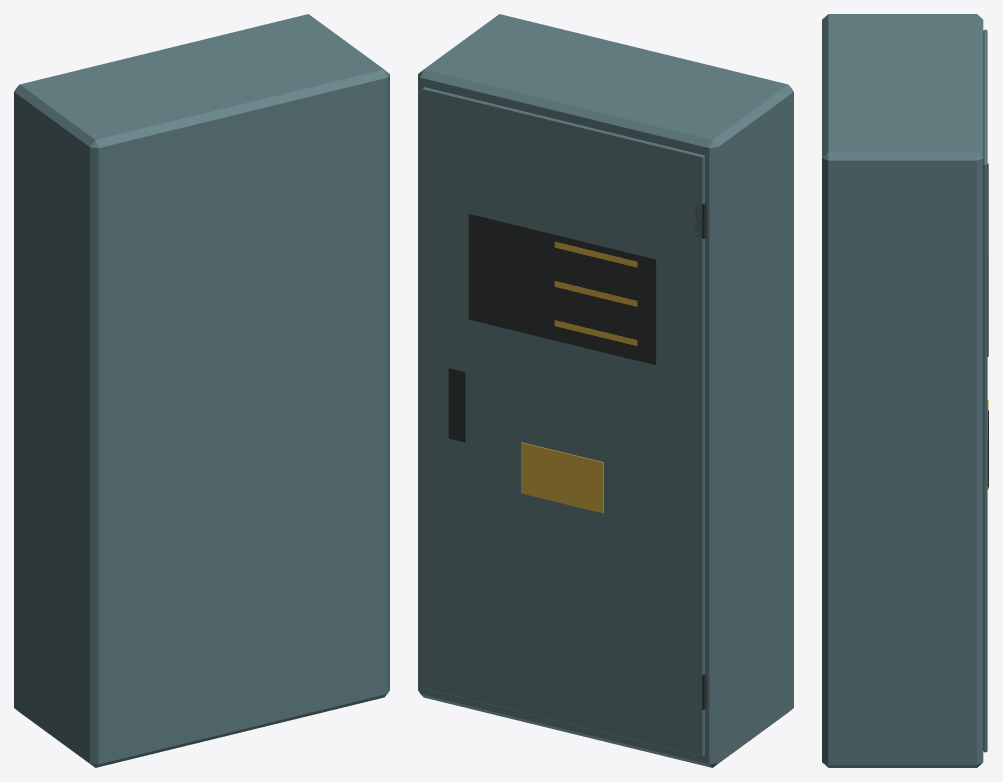
The model's file is control_cabinet.glb.
3 views of the same model, side by side, from view 1: azimuth 30°, elevation 25°; view 2: azimuth 150°, elevation 25°; view 3: azimuth 270°, elevation 25° (orthographic).
Parts seen in each view (by area): view 1: control_cabinet; view 2: control_cabinet; view 3: control_cabinet.
Boxes of the visible parts, x1,y1,x2,y2 form: control_cabinet: [14, 14, 389, 767]; control_cabinet: [418, 14, 793, 767]; control_cabinet: [822, 14, 988, 767].
Size of the model in its own units: 0.8 by 1.6 by 0.393.
